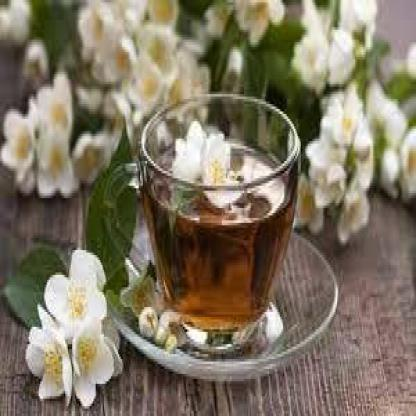Melati: (25, 249, 143, 415), (306, 68, 416, 244), (5, 70, 102, 219), (157, 125, 250, 204)
